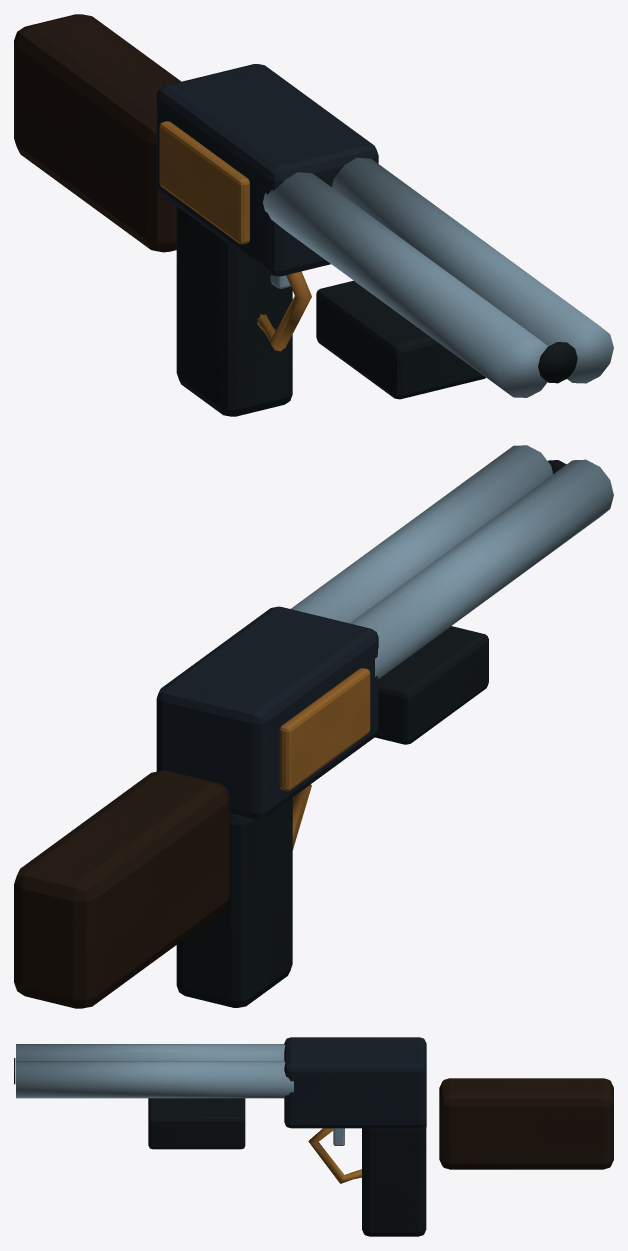
Rendered from Gun_Shotgun.fbx.
3 renders of one model, top to bottom at view 1: azimuth 30°, elevation 25°; view 2: azimuth 150°, elevation 25°; view 3: azimuth 270°, elevation 25°, orthographic. The views are drawn at different scales.
Parts seen in each view (by area): view 1: Gun_Shotgun_Steel, Gun_Shotgun_Leather, Gun_Shotgun_Wood, Gun_Shotgun_DarkSteel, Gun_Shotgun_Gold; view 2: Gun_Shotgun_Wood, Gun_Shotgun_Steel, Gun_Shotgun_DarkSteel, Gun_Shotgun_Leather, Gun_Shotgun_Gold; view 3: Gun_Shotgun_Wood, Gun_Shotgun_Steel, Gun_Shotgun_DarkSteel, Gun_Shotgun_Leather, Gun_Shotgun_Gold.
Boxes of the visible parts, bbox=[...] form: Gun_Shotgun_Steel: bbox=[263, 157, 613, 397]; Gun_Shotgun_Leather: bbox=[176, 206, 577, 416]; Gun_Shotgun_Wood: bbox=[14, 14, 180, 252]; Gun_Shotgun_DarkSteel: bbox=[156, 64, 378, 276]; Gun_Shotgun_Gold: bbox=[159, 121, 311, 351]; Gun_Shotgun_Wood: bbox=[14, 770, 229, 1008]; Gun_Shotgun_Steel: bbox=[291, 445, 613, 678]; Gun_Shotgun_DarkSteel: bbox=[156, 606, 378, 819]; Gun_Shotgun_Leather: bbox=[176, 460, 566, 1007]; Gun_Shotgun_Gold: bbox=[279, 668, 370, 849]; Gun_Shotgun_Wood: bbox=[439, 1078, 613, 1169]; Gun_Shotgun_Steel: bbox=[16, 1044, 344, 1145]; Gun_Shotgun_DarkSteel: bbox=[284, 1037, 426, 1128]; Gun_Shotgun_Leather: bbox=[14, 1058, 426, 1236]; Gun_Shotgun_Gold: bbox=[308, 1128, 361, 1183].
Size of the model in its own units: 0.129 by 0.305 by 0.928.
